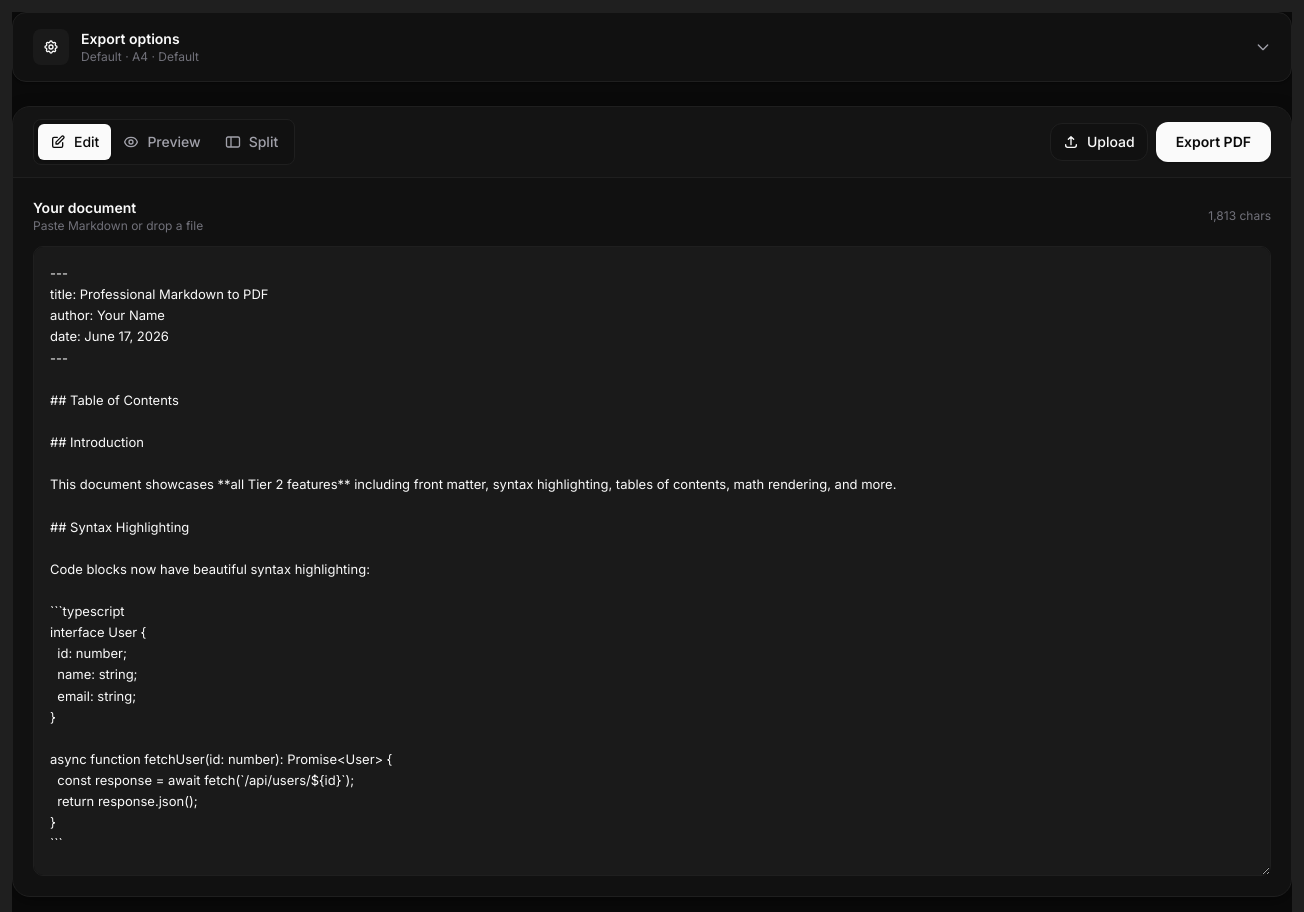
Test: JobConsole › should update character count when typing
Replace the text in the text box named "markdown source" with "# Test": (652,561) [33, 246, 1271, 876]
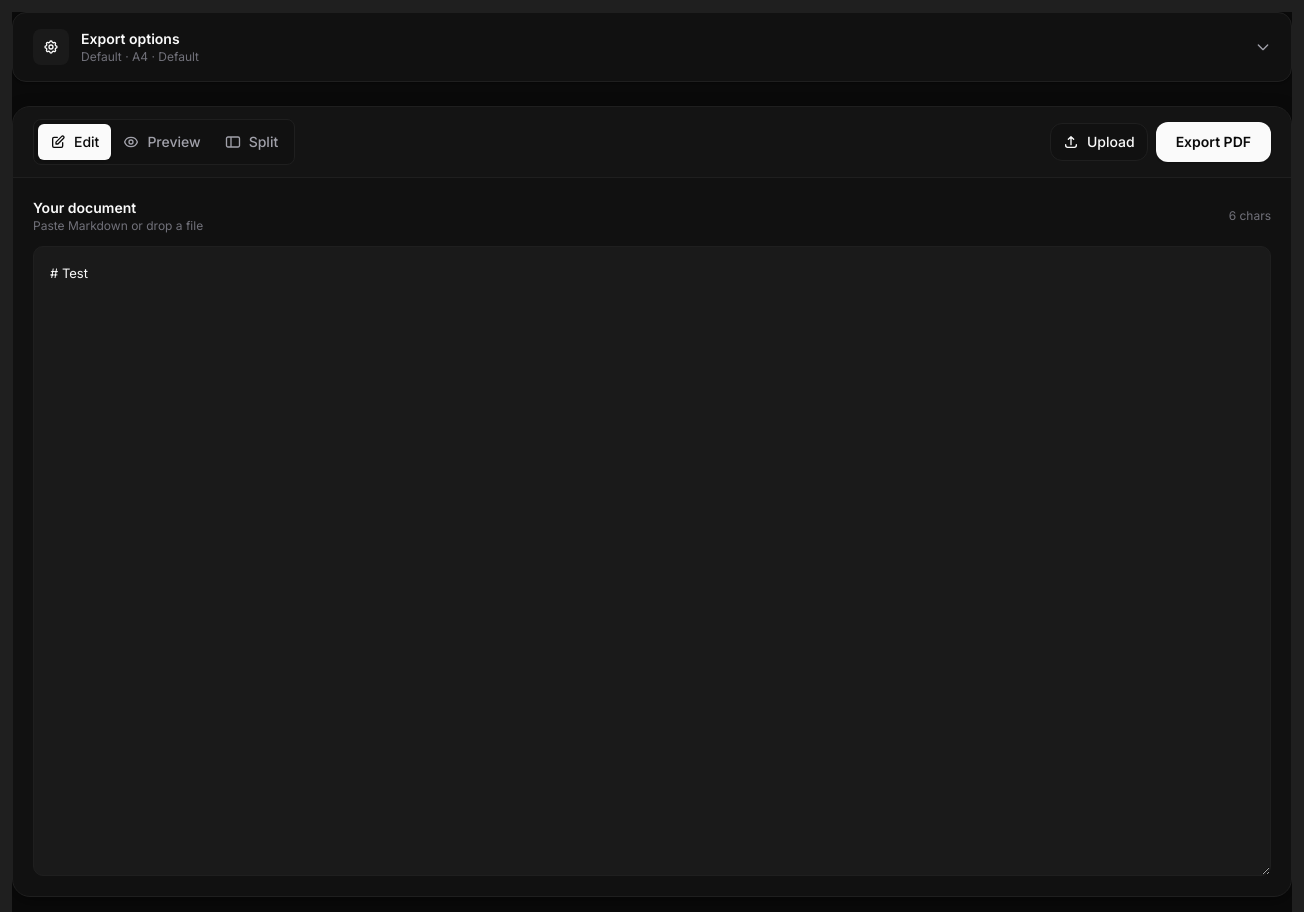
Result: the text "6 chars" is shown at [1229, 208, 1271, 224]
